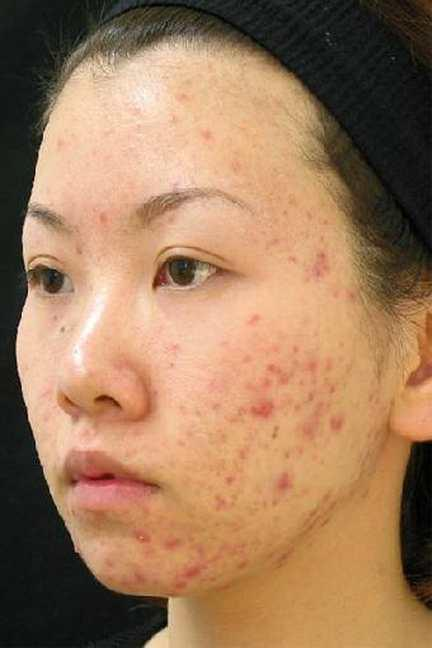acne marks: (203, 319, 334, 490), (105, 521, 246, 590)
